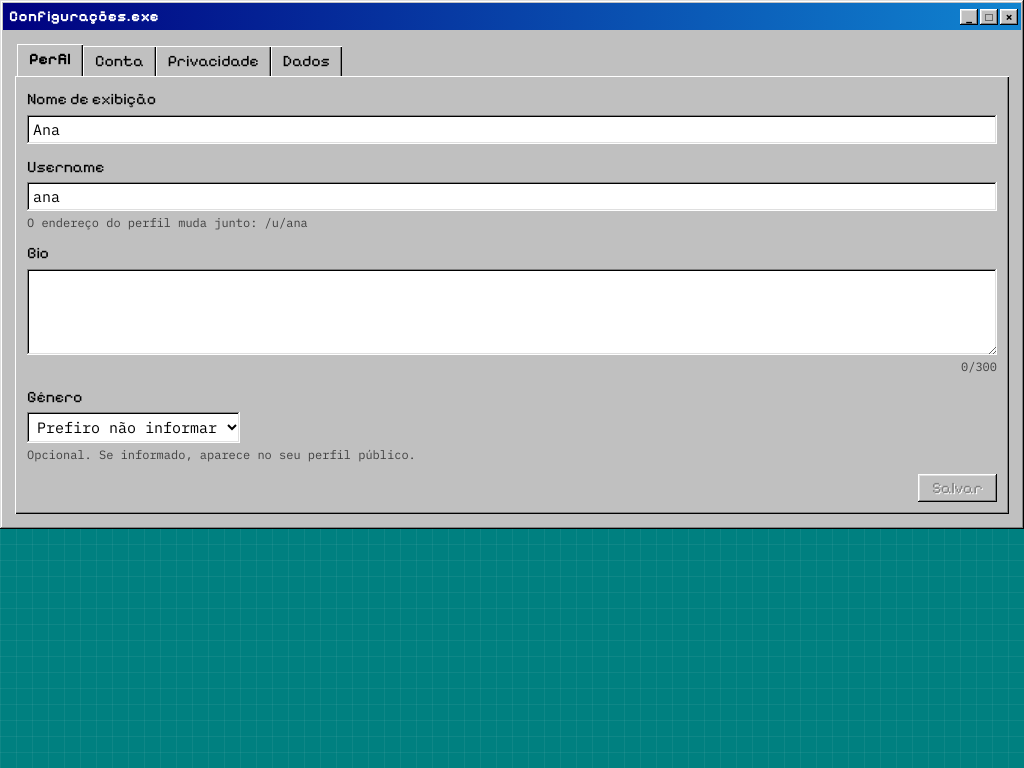
it: SettingsView › Perfil envia só o que mudou, com o campo vazio como null
Clear the field labelled "Nome de exibição" at (512, 129), box [27, 115, 997, 144]
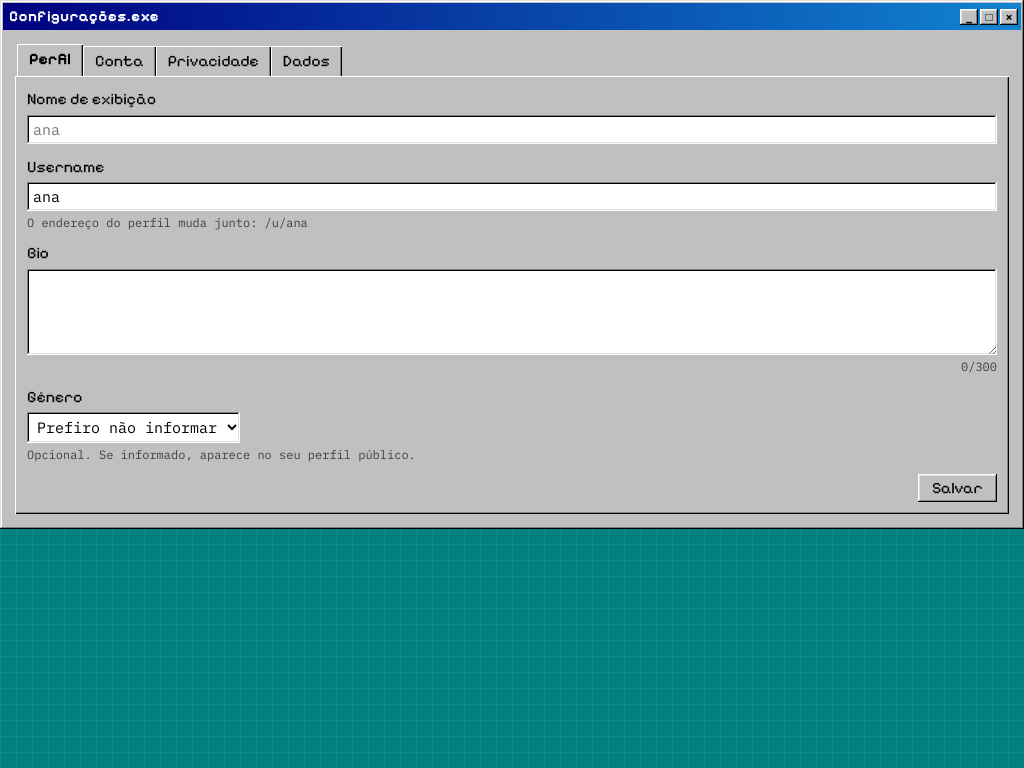
Type "Metroidvanias." into the text box labelled "Bio 0/300" at (512, 312), box [27, 269, 997, 355]
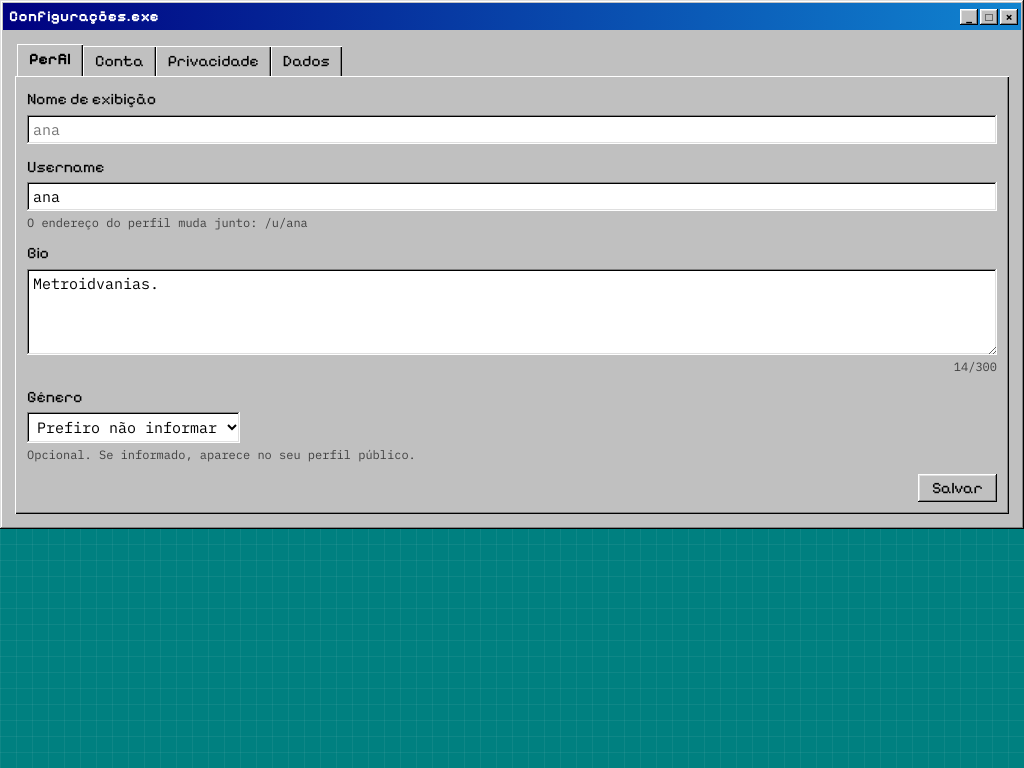
Submit the form, box [27, 88, 997, 502]
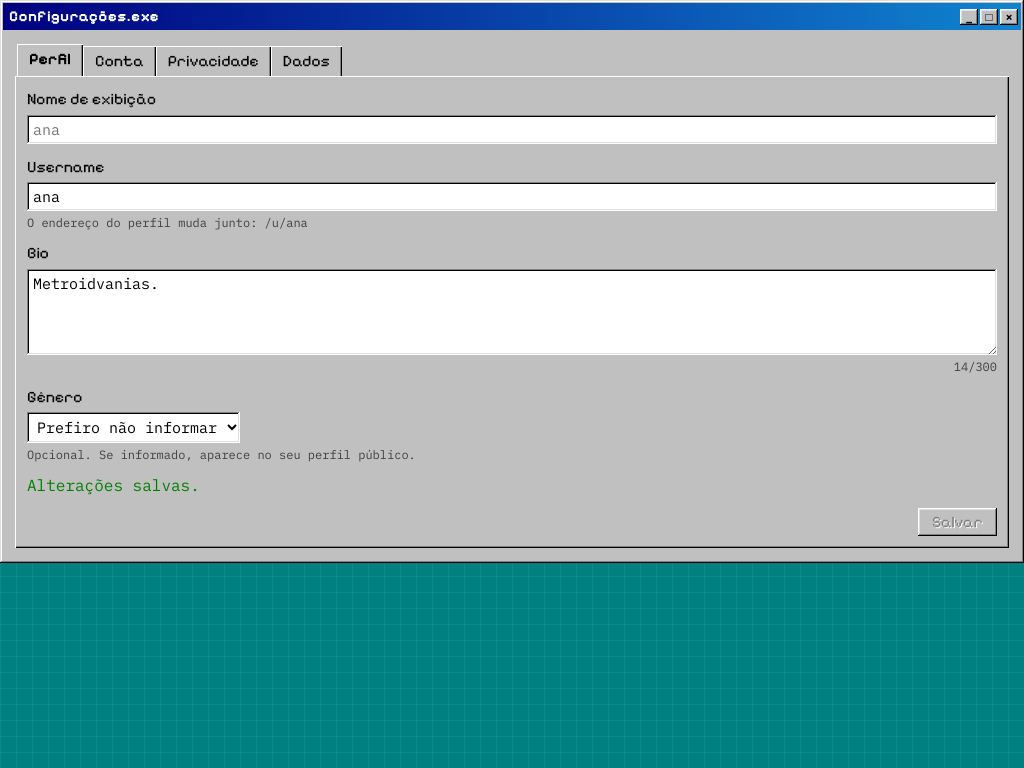
expect the text "Alterações salvas." is shown: met, box [27, 475, 200, 495]
